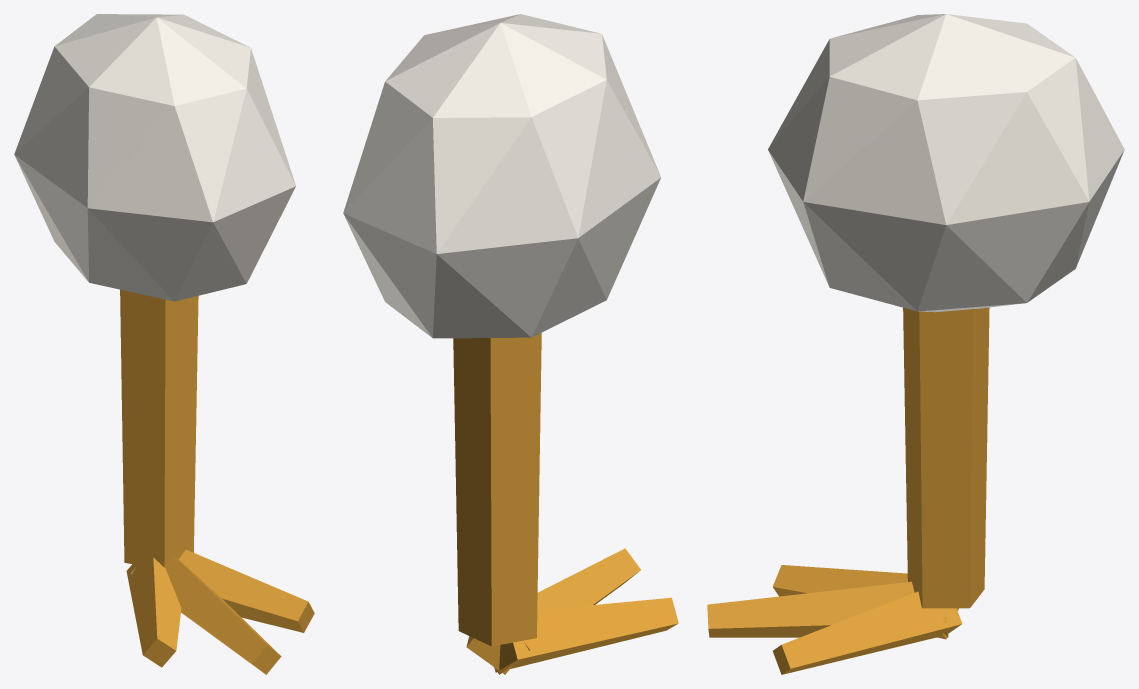
The model's file is chicken_0_leg_r.glb.
3 renders of one model, left to right at view 1: azimuth 30°, elevation 25°; view 2: azimuth 150°, elevation 25°; view 3: azimuth 270°, elevation 25°, orthographic. The views are drawn at different scales.
Visible parts, largest first — view 1: chicken_0_leg_r; view 2: chicken_0_leg_r; view 3: chicken_0_leg_r.
Boxes of the visible parts, box(x1,y1,x2,y2) form: chicken_0_leg_r: box(14, 14, 314, 674); chicken_0_leg_r: box(343, 14, 678, 674); chicken_0_leg_r: box(707, 14, 1124, 674).
Size of the model in its own units: 0.076 by 0.188 by 0.1141.
